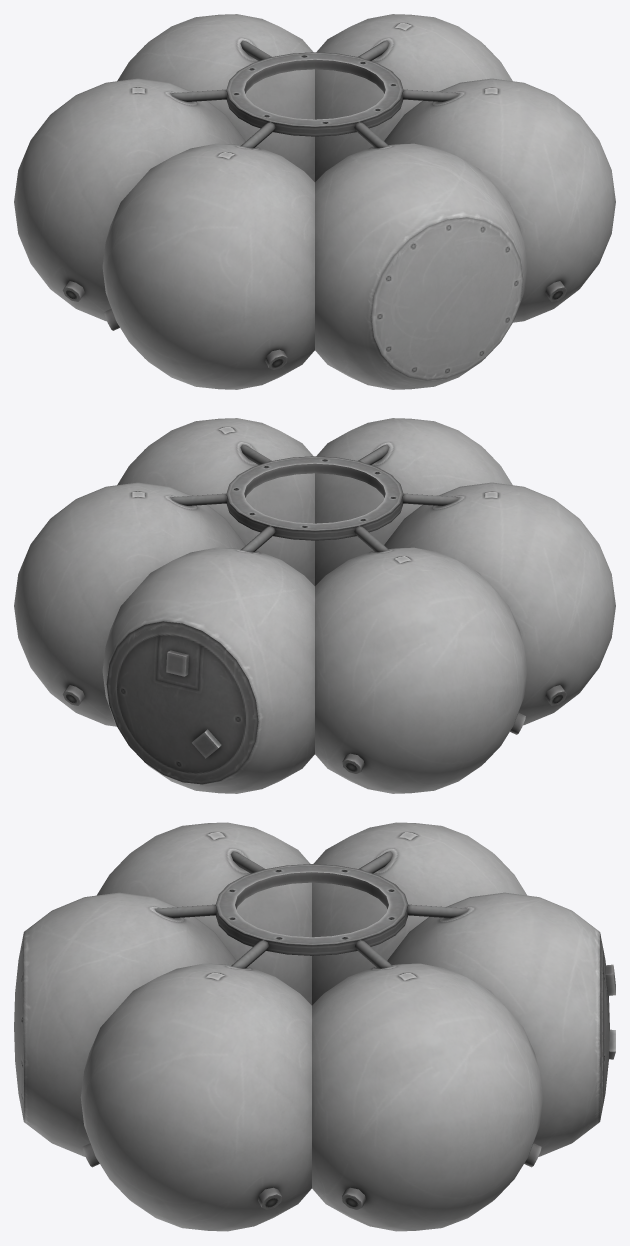
The model's file is tantares_us_avionics_s0_1.obj.
The picture shows the model from 3 angles, top to bottom: view 1: azimuth 30°, elevation 25°; view 2: azimuth 150°, elevation 25°; view 3: azimuth 270°, elevation 25°; orthographic projection. The views are drawn at different scales.
Parts seen in each view (by area): view 1: mesh1; view 2: mesh1; view 3: mesh1.
Part boxes in pixels (bbox=[...]): mesh1: bbox=[14, 14, 615, 389]; mesh1: bbox=[14, 418, 615, 793]; mesh1: bbox=[14, 822, 615, 1231].
Size of the model in its own units: 1.96 by 0.875 by 1.95.
Materials: 1 (1 with a texture image).
